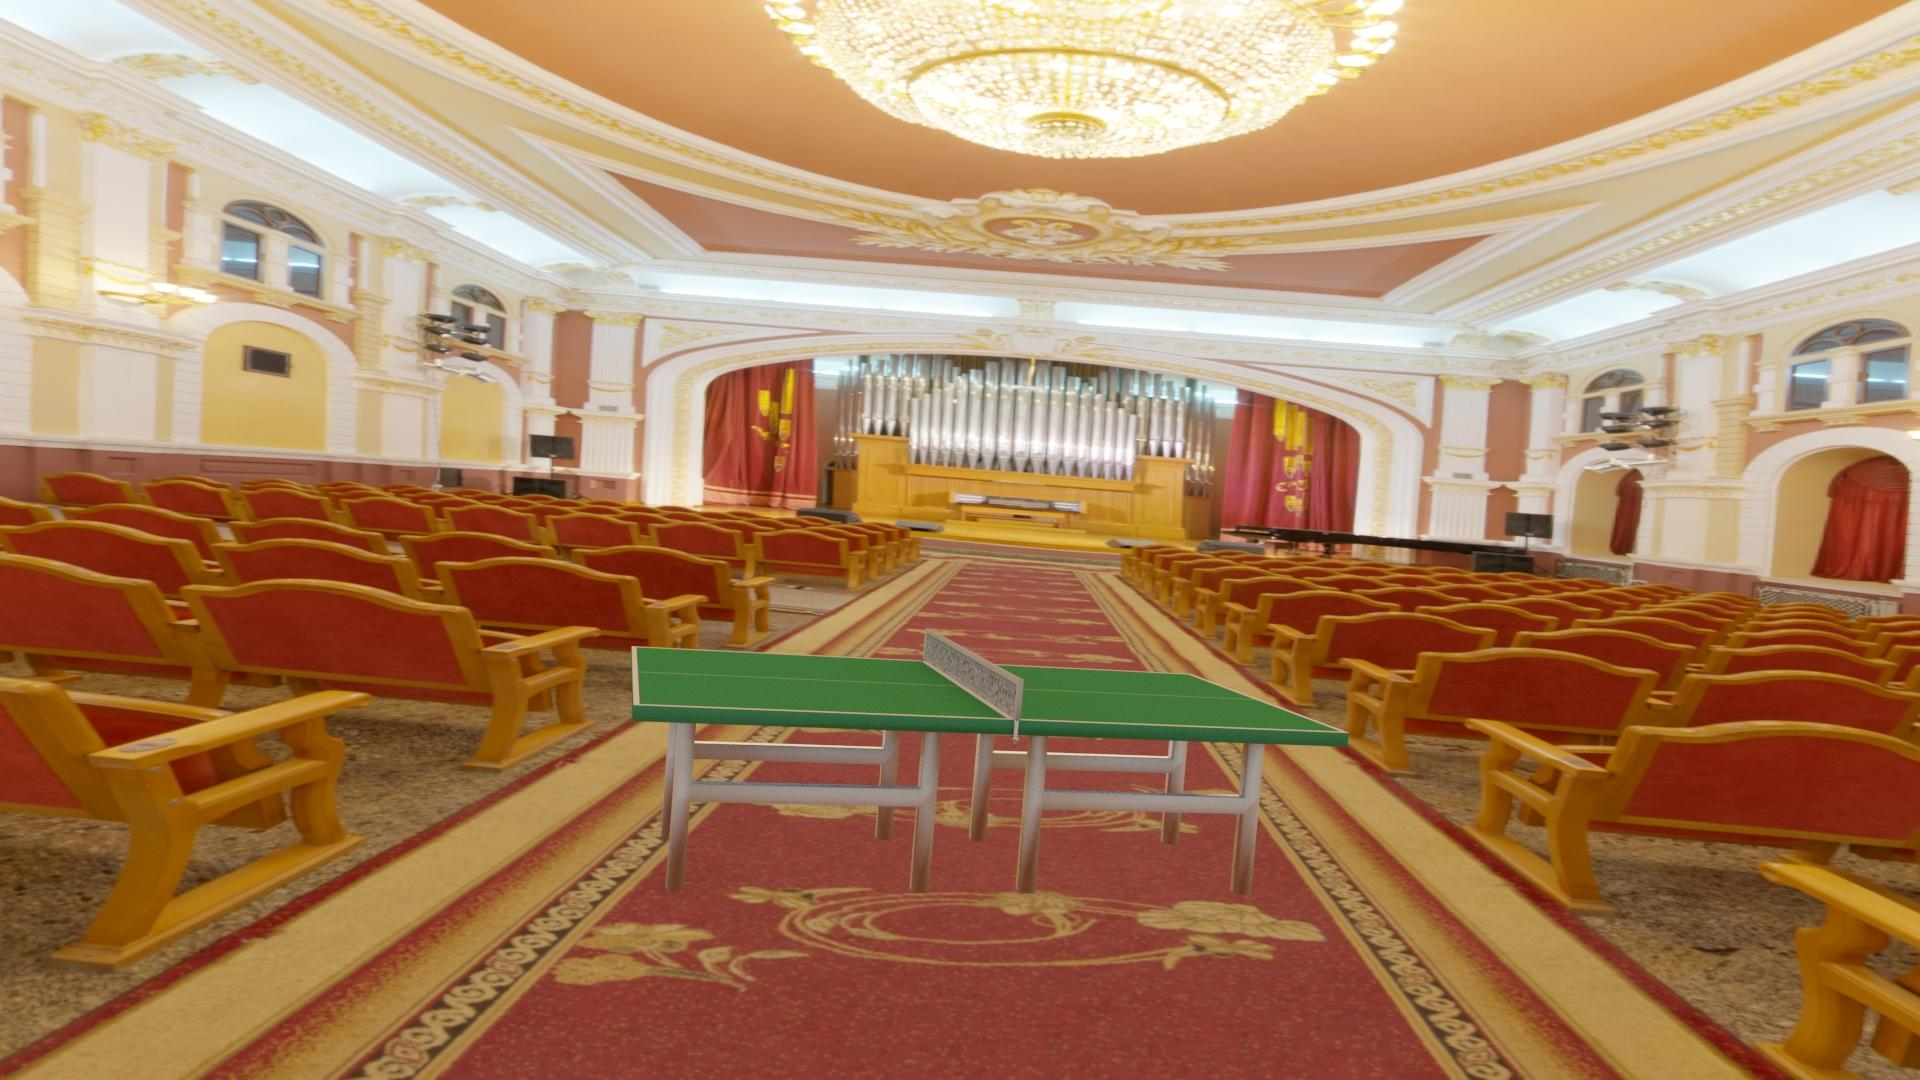table: (637, 647, 1342, 732)
